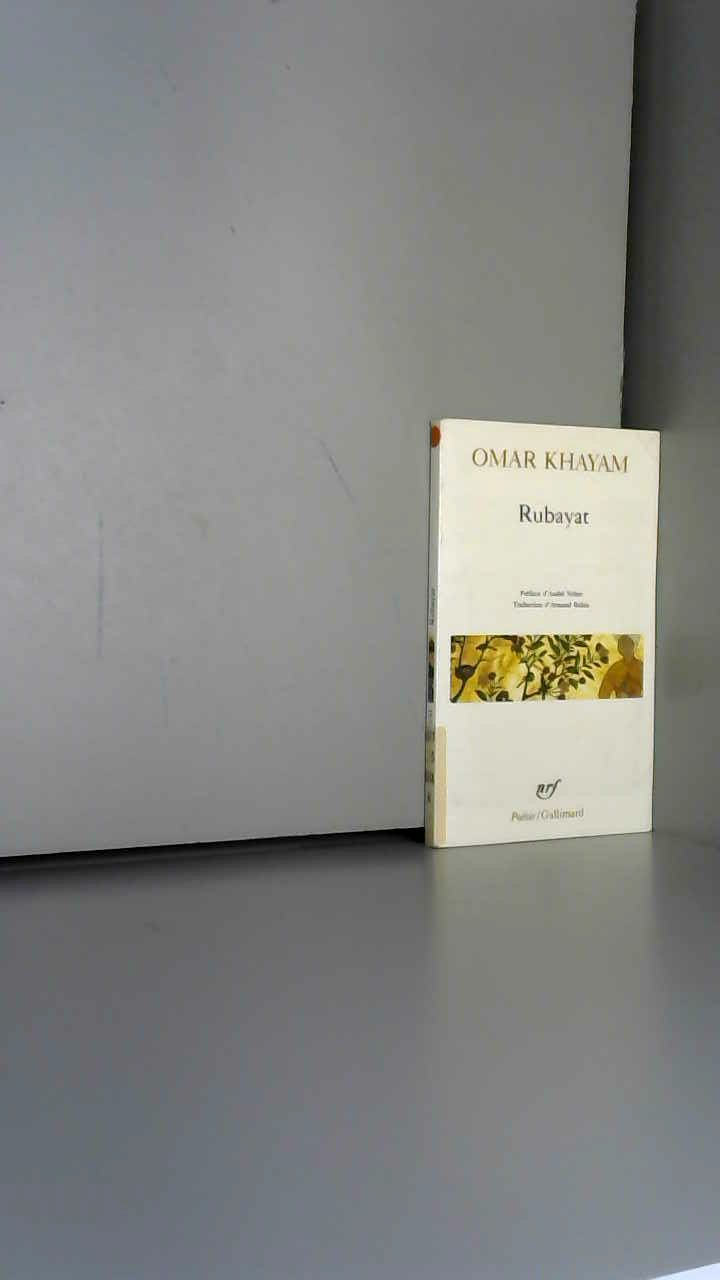book: (400, 390, 719, 913)
